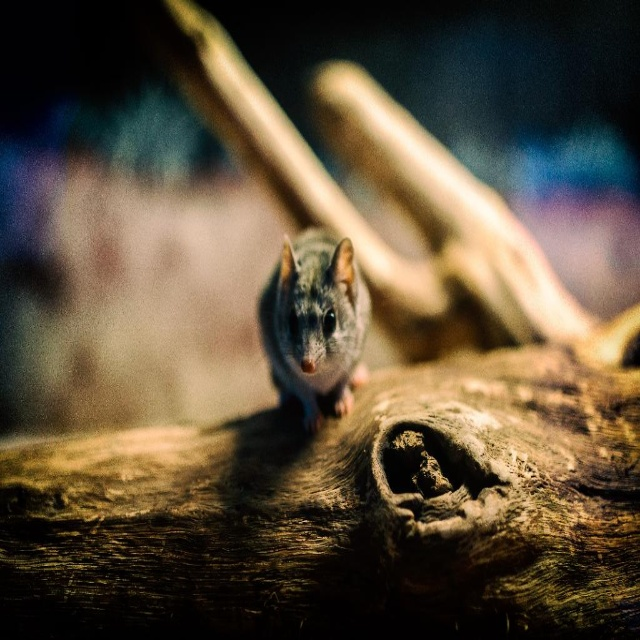Mouse: (253, 227, 371, 432)
